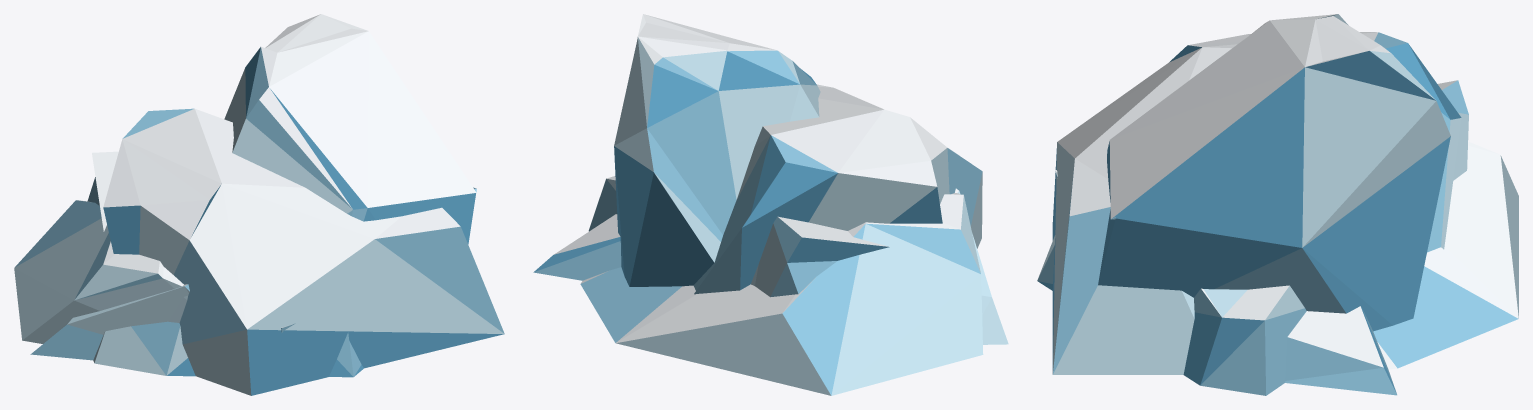
Rendered from iceshards.glb.
3 renders of one model, left to right at view 1: azimuth 30°, elevation 25°; view 2: azimuth 150°, elevation 25°; view 3: azimuth 270°, elevation 25°, orthographic. The views are drawn at different scales.
Parts seen in each view (by area): view 1: ic_shard_b, ic_shard_d, ic_shard_e, ic_shard_a, ic_shard_c; view 2: ic_shard_e, ic_shard_d, ic_shard_b, ic_shard_a, ic_shard_c; view 3: ic_shard_d, ic_shard_b, ic_shard_e, ic_shard_a, ic_shard_c.
Boxes of the visible parts, box(x1,y1,x2,y2) form: ic_shard_b: box(103, 108, 504, 395); ic_shard_d: box(224, 14, 476, 244); ic_shard_e: box(14, 200, 295, 343); ic_shard_a: box(87, 151, 363, 377); ic_shard_c: box(30, 284, 189, 360); ic_shard_e: box(580, 193, 983, 395); ic_shard_d: box(614, 14, 820, 286); ic_shard_b: box(693, 84, 982, 294); ic_shard_a: box(588, 176, 889, 297); ic_shard_c: box(533, 188, 1008, 344); ic_shard_d: box(1098, 14, 1450, 331); ic_shard_b: box(1052, 32, 1461, 374); ic_shard_e: box(1055, 141, 1518, 369); ic_shard_a: box(1037, 80, 1468, 395); ic_shard_c: box(1285, 306, 1396, 395).
Size of the model in its own units: 2.76 by 1.53 by 2.28.
